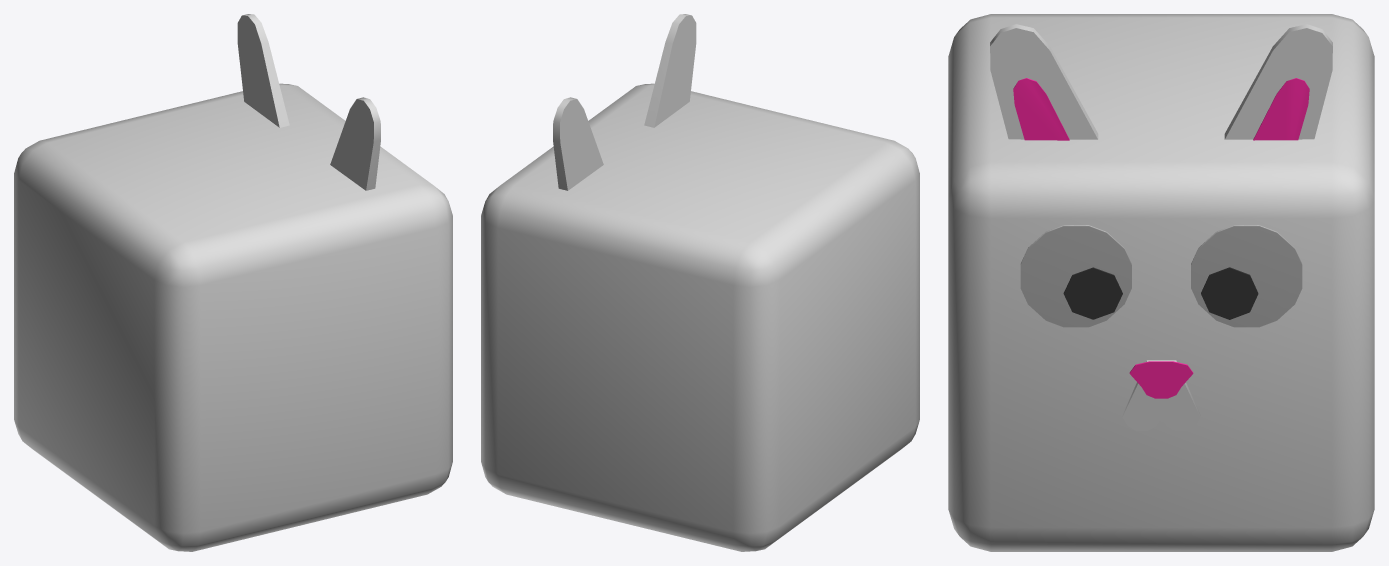
The model's file is WhiteBeast.fbx.
3 renders of one model, left to right at view 1: azimuth 30°, elevation 25°; view 2: azimuth 150°, elevation 25°; view 3: azimuth 270°, elevation 25°, orthographic. The views are drawn at different scales.
Parts seen in each view (by area): view 1: Cube.001, Cube.004, Cube; view 2: Cube.001, Cube, Cube.004; view 3: Cube.001, Cylinder, Cylinder.003, Cube, Cube.004, Cube.005, Cube.002, Cube.003, Cylinder.002, Cylinder.001, Cube.008.
Boxes of the visible parts, x1,y1,x2,y2 form: Cube.001: (14, 83, 452, 551); Cube.004: (237, 14, 289, 127); Cube: (330, 97, 380, 190); Cube.001: (481, 83, 919, 551); Cube: (644, 14, 696, 127); Cube.004: (553, 97, 603, 190); Cube.001: (948, 14, 1374, 551); Cylinder: (1191, 225, 1302, 327); Cylinder.003: (1020, 225, 1131, 327); Cube: (990, 24, 1098, 139); Cube.004: (1224, 24, 1332, 139); Cube.005: (1122, 360, 1200, 430); Cube.002: (1013, 78, 1069, 140); Cube.003: (1253, 78, 1309, 140); Cylinder.002: (1063, 267, 1122, 319); Cylinder.001: (1201, 267, 1258, 319); Cube.008: (1129, 361, 1193, 398).
Size of the model in its own units: 206 by 257 by 200.
